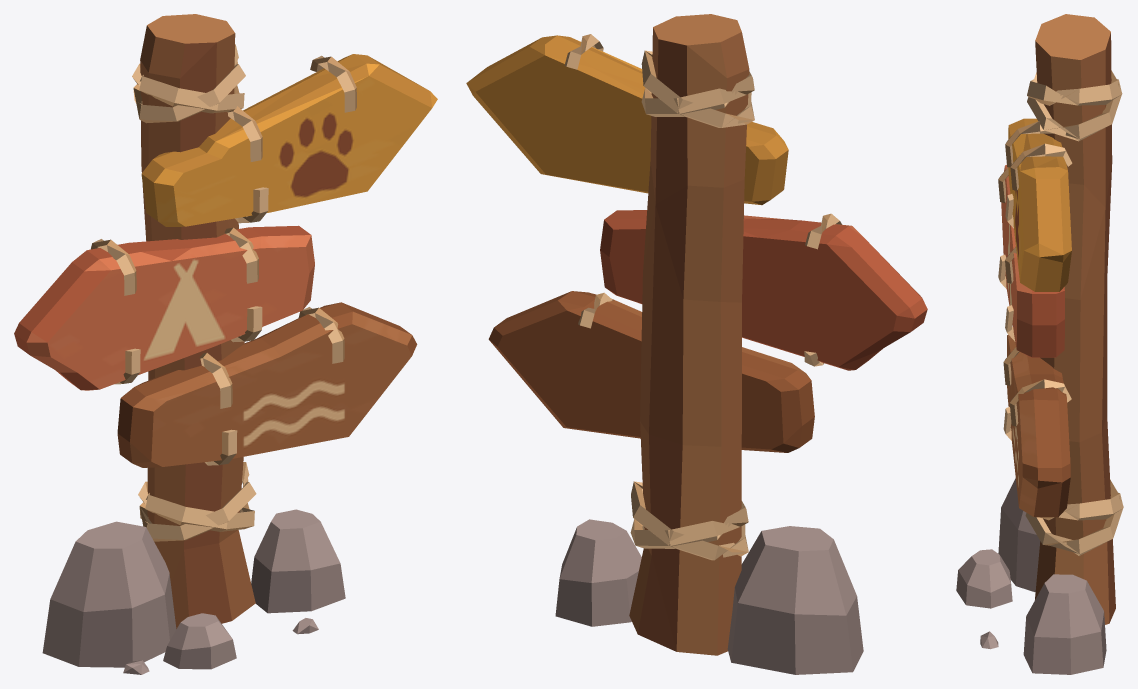
The model's file is Prehistoric_Trail_Signpost.glb.
3 renders of one model, left to right at view 1: azimuth 30°, elevation 25°; view 2: azimuth 150°, elevation 25°; view 3: azimuth 270°, elevation 25°, orthographic. The views are drawn at different scales.
Parts seen in each view (by area): view 1: Prehistoric Trail Signpost; view 2: Prehistoric Trail Signpost; view 3: Prehistoric Trail Signpost.
Part boxes in pixels (box(x1,y1,x2,y2)): Prehistoric Trail Signpost: box(14, 14, 437, 674); Prehistoric Trail Signpost: box(466, 14, 927, 674); Prehistoric Trail Signpost: box(956, 14, 1123, 674).
Bounding box in the file's own units: 2.79 × 3.73 × 0.978.
Materials: 2 (2 with a texture image).
